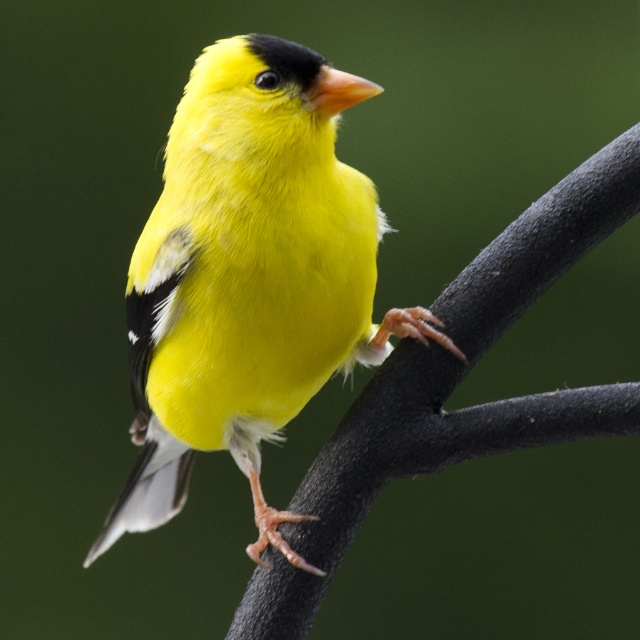Canary: (80, 31, 467, 578)
